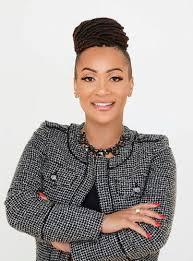person: (69, 16, 135, 127)
